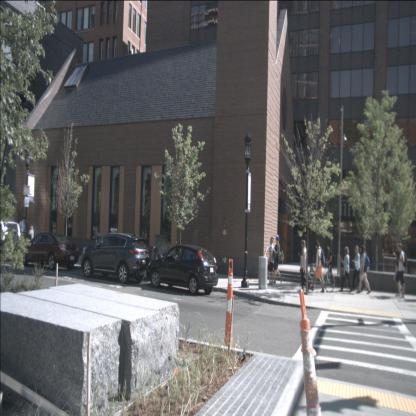human-pedestrian-adult: (309, 240, 325, 292), (356, 244, 371, 294), (395, 243, 407, 299), (351, 245, 365, 291), (339, 246, 353, 292), (392, 239, 402, 295), (300, 239, 310, 294), (267, 236, 277, 286), (273, 235, 283, 285), (151, 246, 159, 283), (19, 217, 26, 255), (28, 226, 34, 254)
movable_object-trafficcone: (299, 288, 322, 416), (222, 258, 235, 369)
vehicle-bicycle: (307, 263, 335, 293)
vehicle-car: (147, 244, 218, 296), (81, 232, 149, 285), (19, 232, 79, 270), (0, 221, 21, 259)
